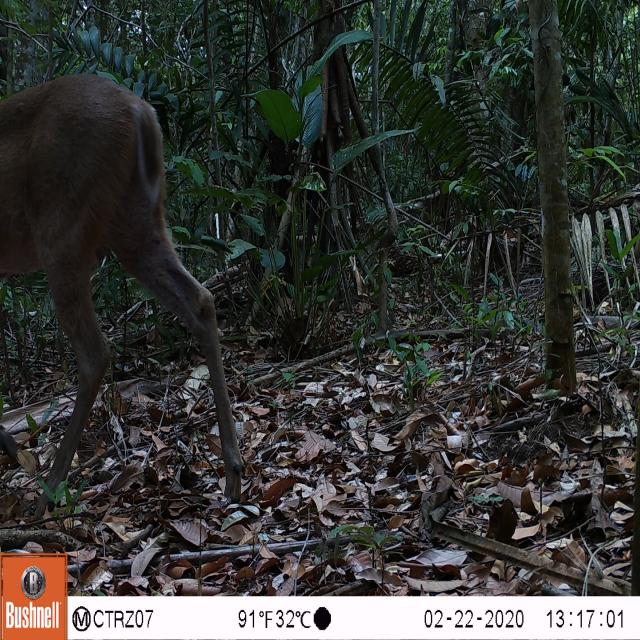White-tailed Deer: (0, 67, 250, 523)
